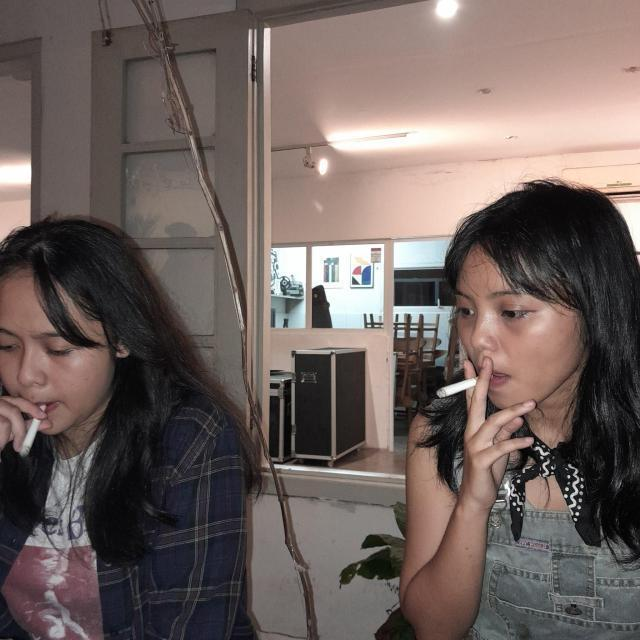rokok: (11, 397, 62, 457), (432, 372, 514, 406)
